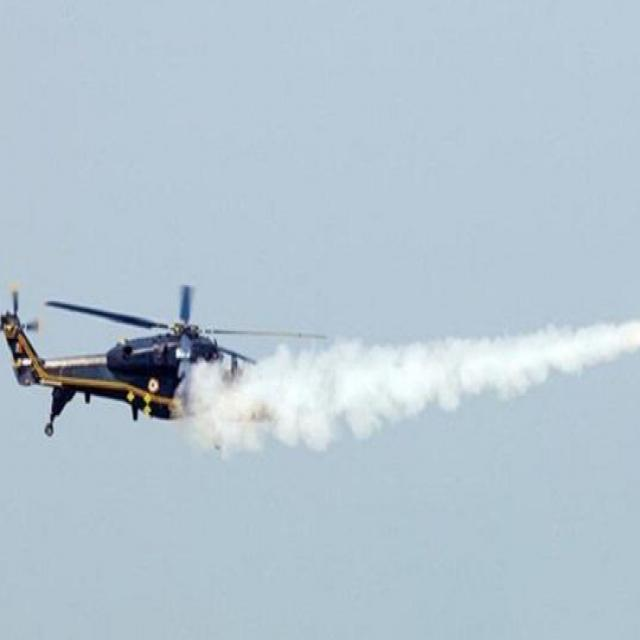helicopter: (1, 267, 332, 480)
